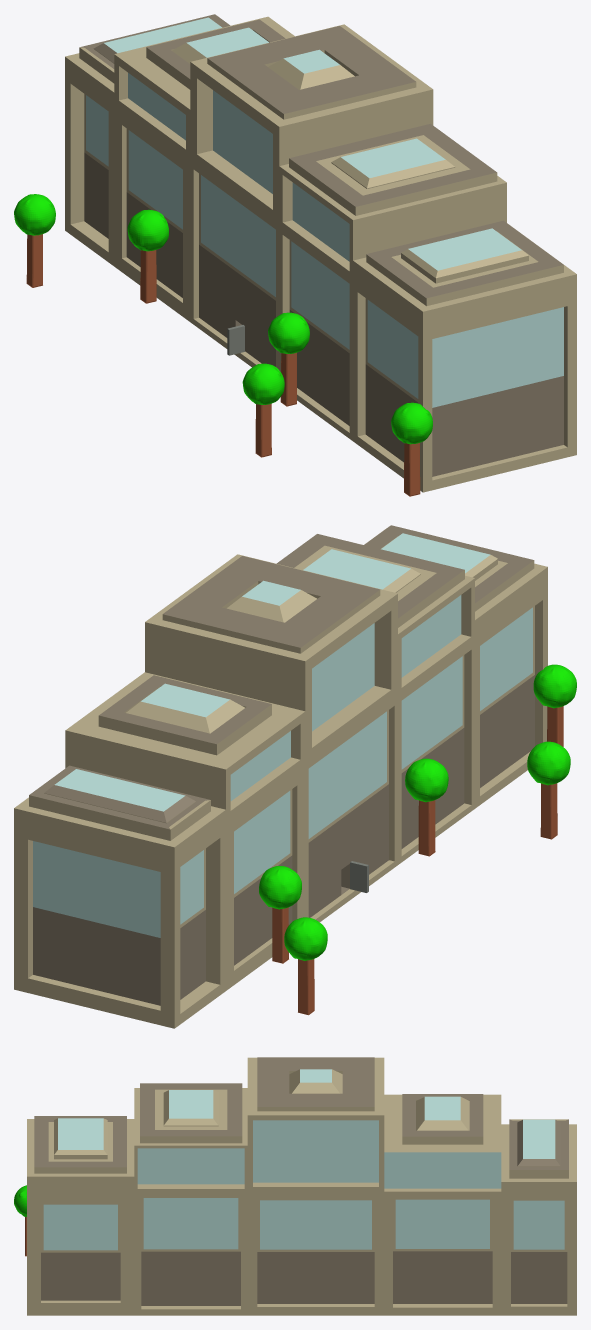
The model's file is Will I am s spelkurs .fbx.
The picture shows the model from 3 angles, top to bottom: view 1: azimuth 30°, elevation 25°; view 2: azimuth 150°, elevation 25°; view 3: azimuth 270°, elevation 25°; orthographic projection. The views are drawn at different scales.
Parts seen in each view (by area): view 1: Cube, Sphere.003, Sphere.004, Sphere.001, Sphere, Sphere.002, Tree, Tree.004, Tree.002, Tree.003, Tree.001; view 2: Cube, Sphere.003, Sphere.001, Sphere.004, Sphere.002, Sphere, Tree.001, Tree.004, Tree.003, Tree; view 3: Cube.
Part boxes in pixels (box(x1,y1,x2,y2)): Cube: box(65, 14, 576, 492); Sphere.003: box(14, 194, 55, 235); Sphere.004: box(242, 363, 284, 404); Sphere.001: box(268, 312, 309, 353); Sphere: box(127, 209, 168, 251); Sphere.002: box(391, 402, 432, 444); Tree: box(140, 250, 156, 303); Tree.004: box(255, 403, 271, 457); Tree.002: box(404, 443, 420, 496); Tree.003: box(26, 234, 42, 287); Tree.001: box(280, 352, 296, 406); Cube: box(14, 525, 547, 1028); Sphere.003: box(284, 917, 327, 960); Sphere.001: box(405, 758, 448, 802); Sphere.004: box(527, 741, 570, 785); Sphere.002: box(533, 664, 576, 708); Sphere: box(259, 866, 301, 909); Tree.001: box(418, 800, 435, 856); Tree.004: box(540, 783, 557, 839); Tree.003: box(298, 959, 314, 1015); Tree: box(272, 907, 288, 963); Cube: box(27, 1057, 576, 1315).
Size of the model in its own units: 327 by 346 by 825.
